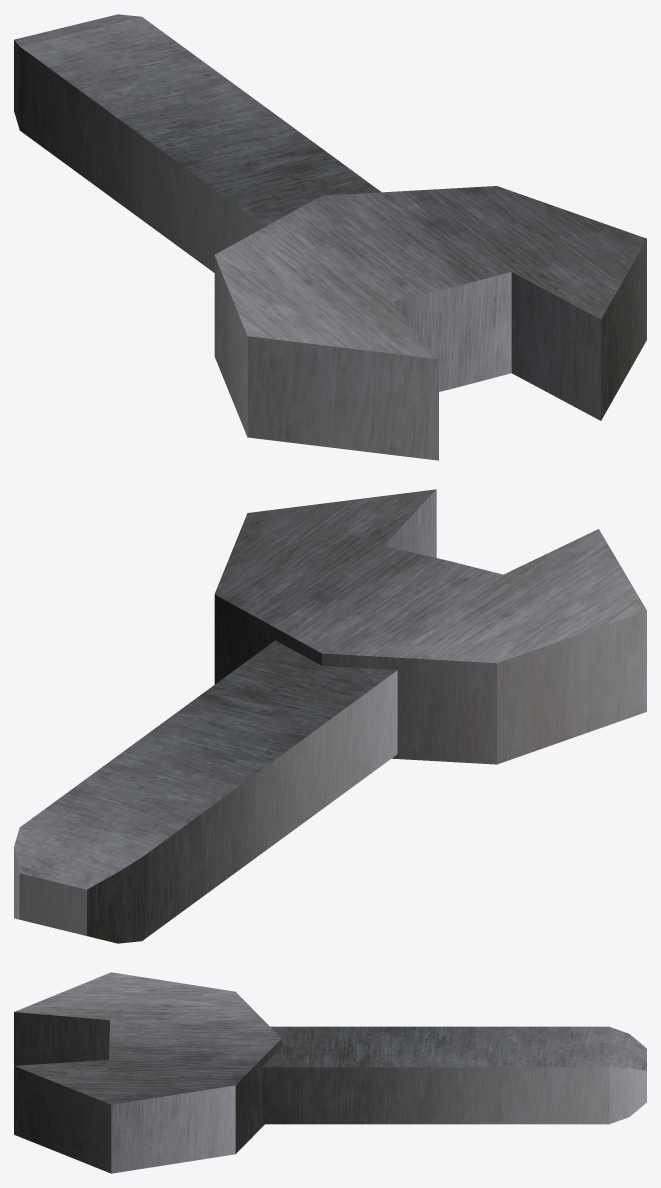
File: LlaveInglesa2.fbx
3 renders of one model, top to bottom at view 1: azimuth 30°, elevation 25°; view 2: azimuth 150°, elevation 25°; view 3: azimuth 270°, elevation 25°, orthographic. The views are drawn at different scales.
Parts seen in each view (by area): view 1: Cylinder.010; view 2: Cylinder.010; view 3: Cylinder.010.
Boxes of the visible parts, left/top/right/bottom form: Cylinder.010: left=14, top=14, right=646, bottom=460; Cylinder.010: left=14, top=489, right=646, bottom=943; Cylinder.010: left=14, top=972, right=646, bottom=1173.
Bounding box in the file's own units: 21.04 × 5.1 × 42.48.
Materials: 1 (1 with a texture image).
